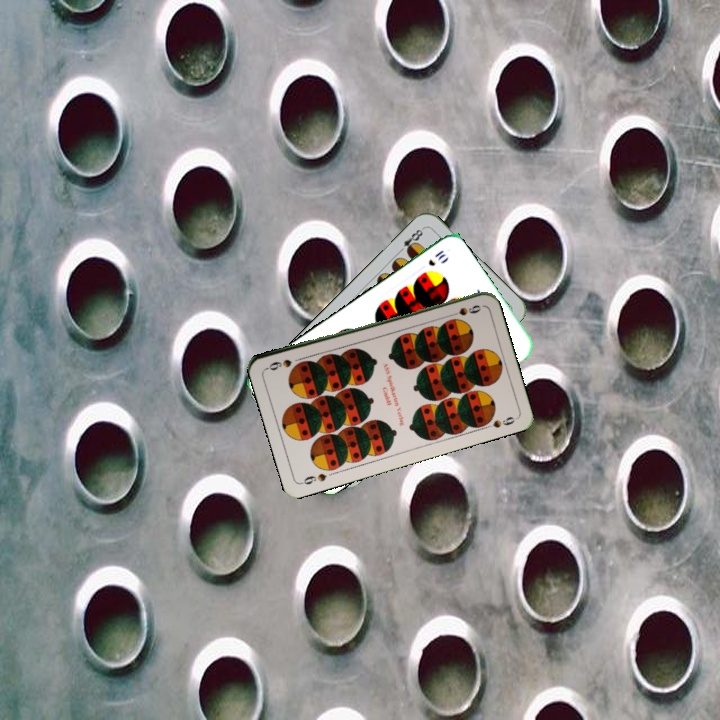E8: (394, 224, 427, 256)
S10: (424, 246, 448, 269)
S9: (444, 301, 483, 320), (297, 469, 329, 487)
